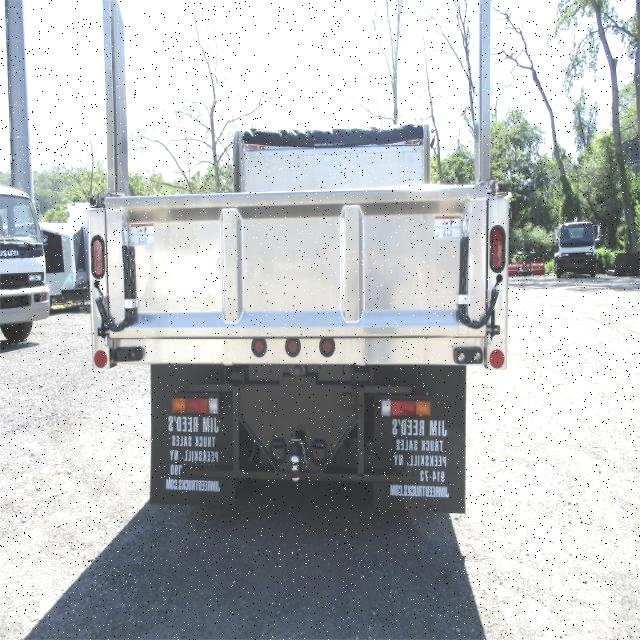truck: (90, 128, 512, 517)
